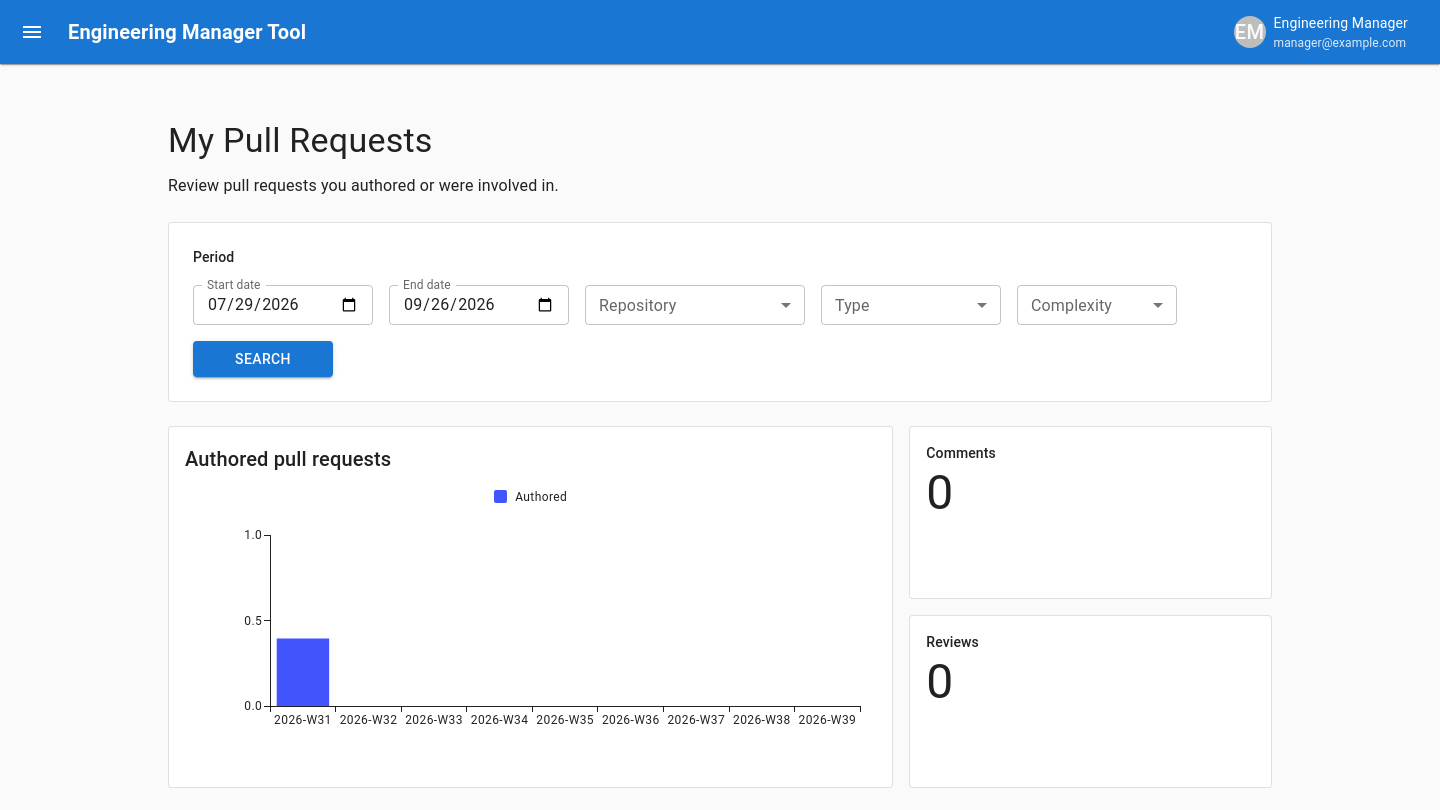
it: US2 my pull requests filters › shows date validation when searching with end before start
Step 1. Type "2026-08-20" into the date field with test id "pr-activity-start-date" → point(283, 305), box [193,285,373,325]
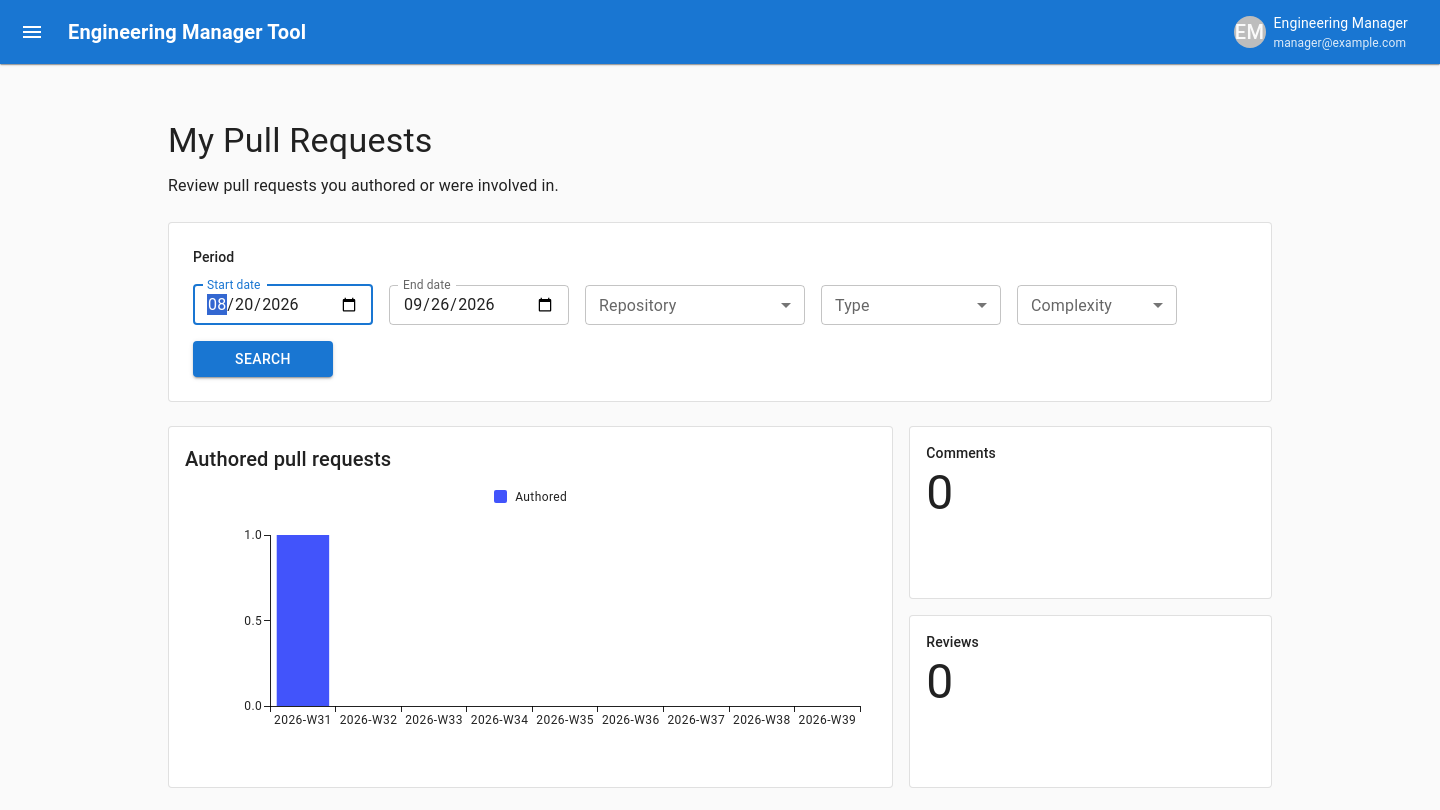
Step 2. Type "2026-08-01" into the date field with test id "pr-activity-end-date" → point(479, 305), box [389,285,569,325]
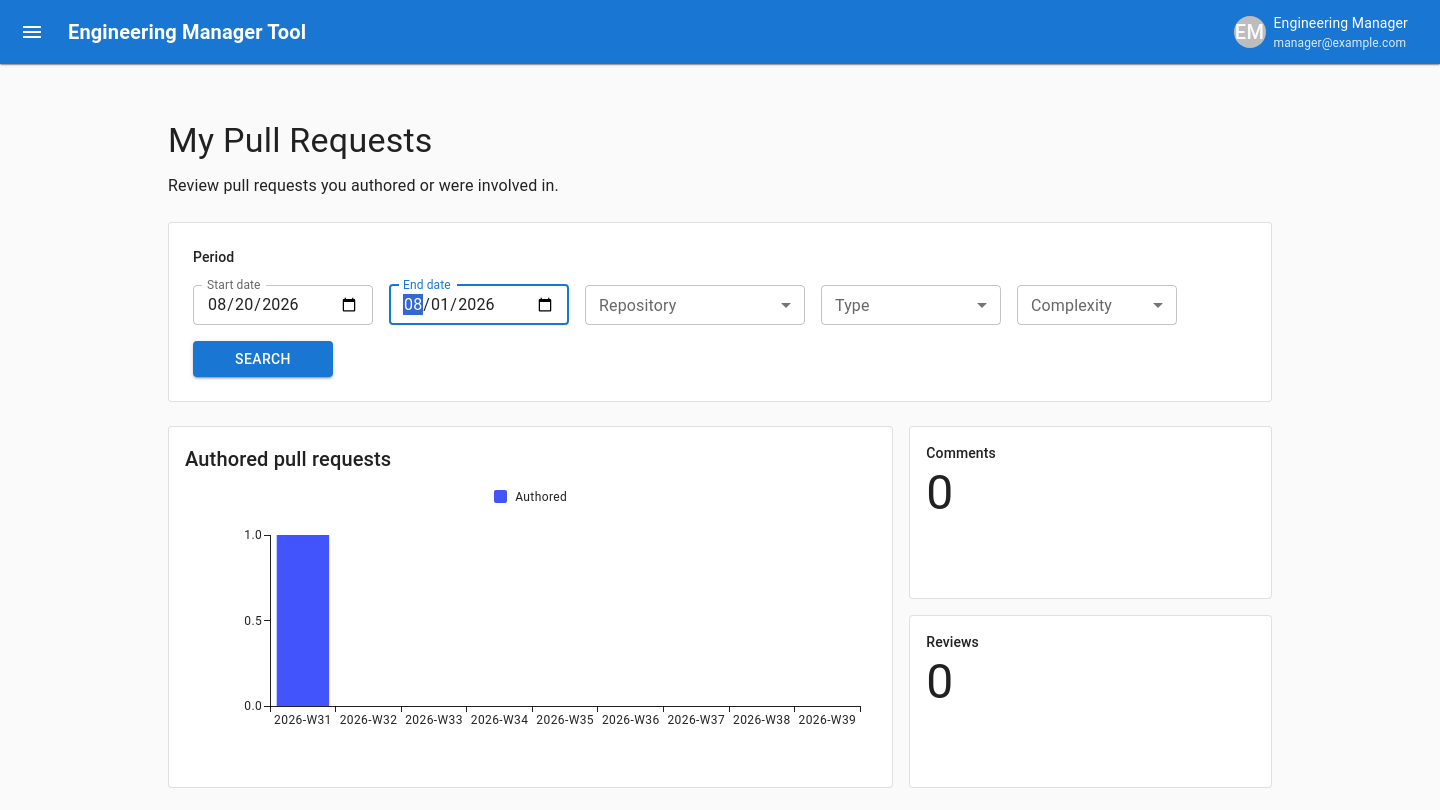
Step 3. Click the button with test id "pr-activity-search" → point(263, 359), box [193,341,333,377]
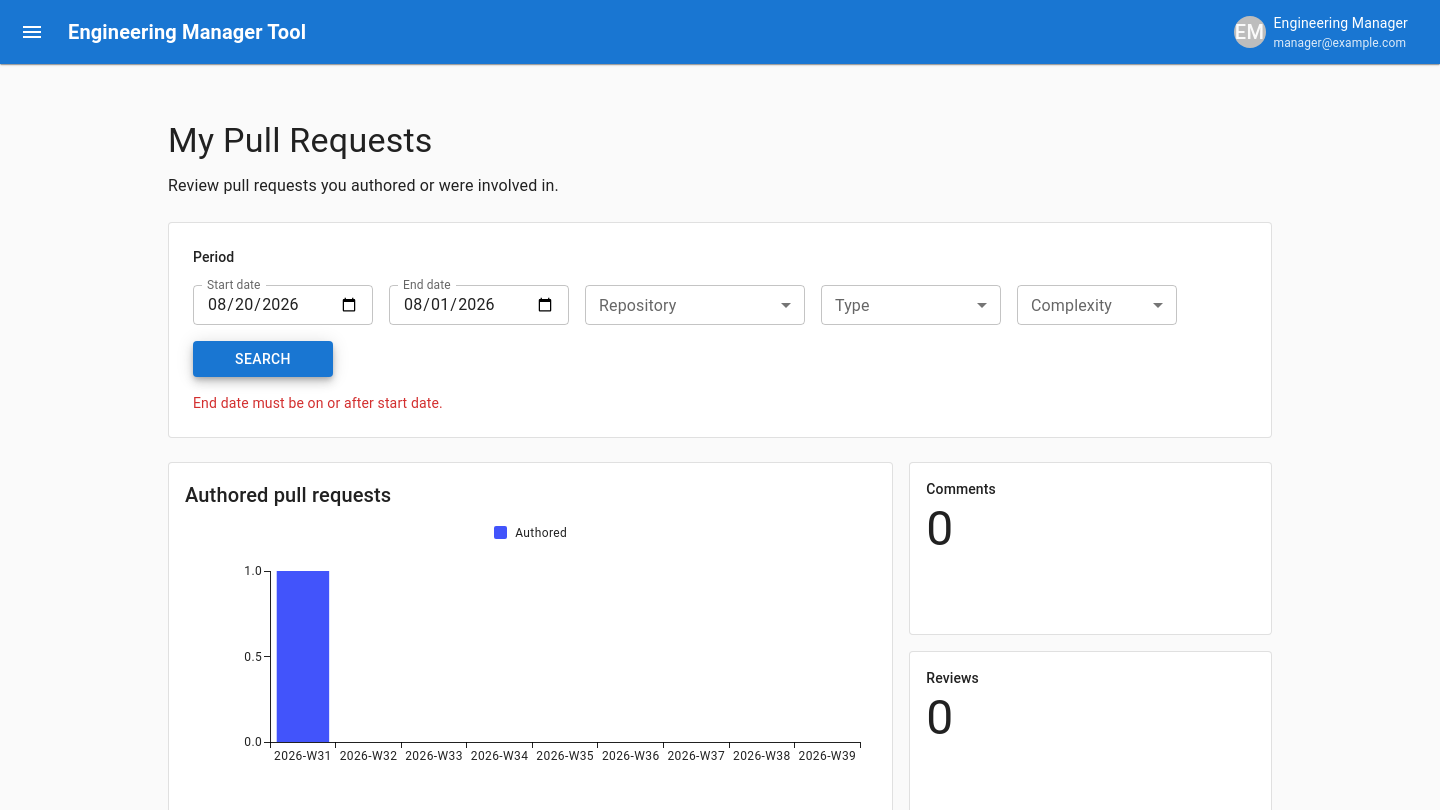
Expected: the message "End date must be on or after start date." is shown, [193,395,443,411]
